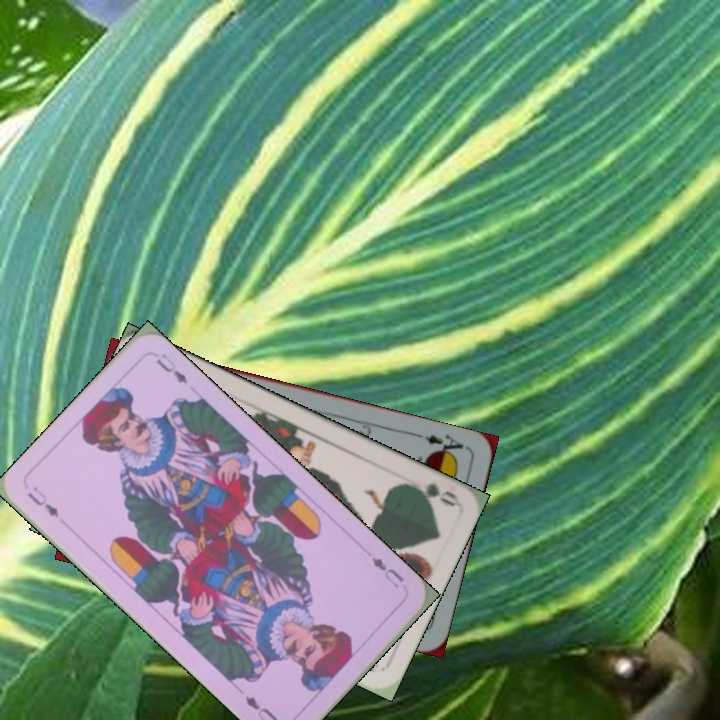EA: (421, 430, 469, 461)
EU: (367, 553, 407, 591), (23, 482, 61, 521)
GO: (401, 478, 460, 509)
